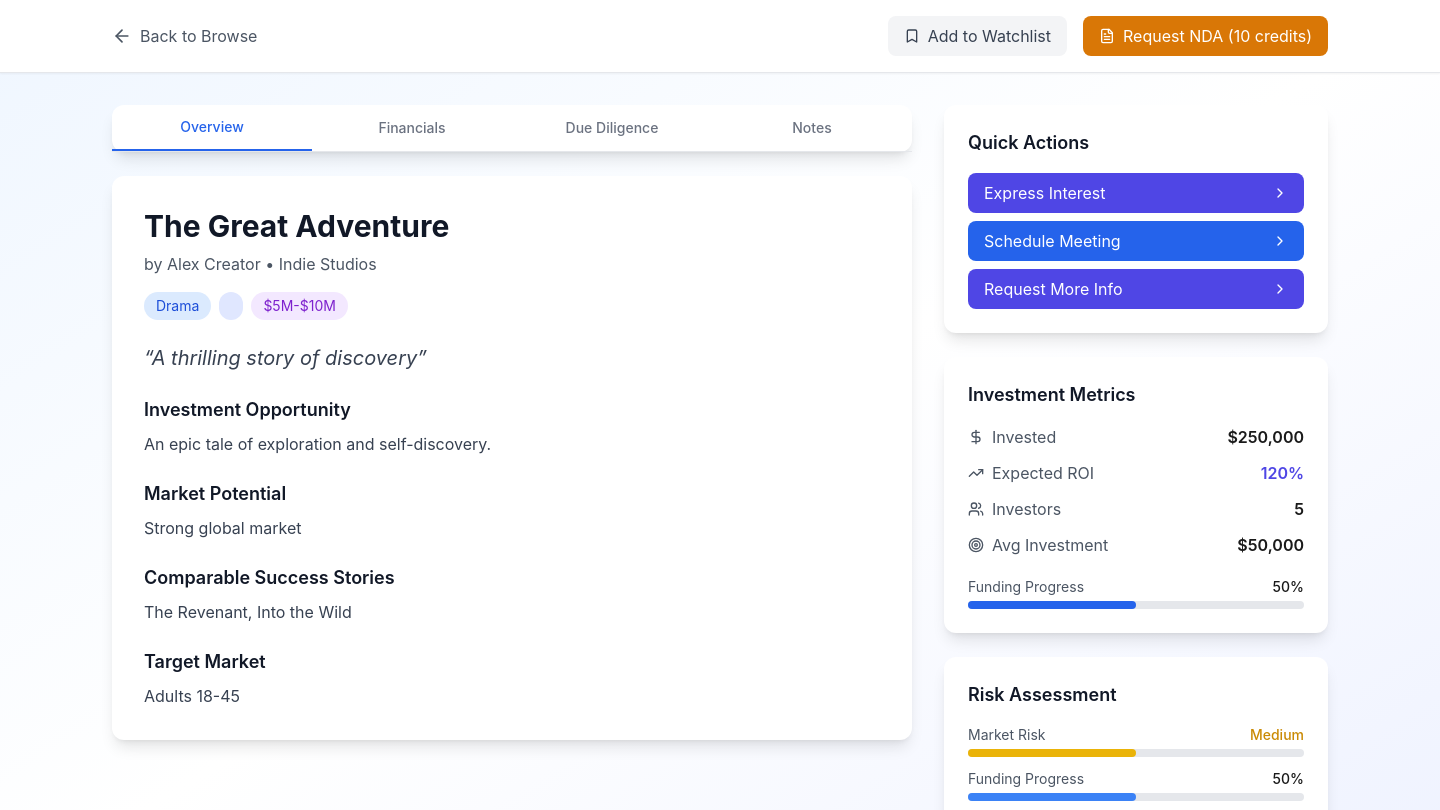
Test case: InvestorPitchView › Express Interest Modal › opens modal when Express Interest is clicked
Expected: the text "Express Interest" is shown, [984,181,1106,205]
Click the button "Express Interest": (1045, 193) [968,173,1304,213]
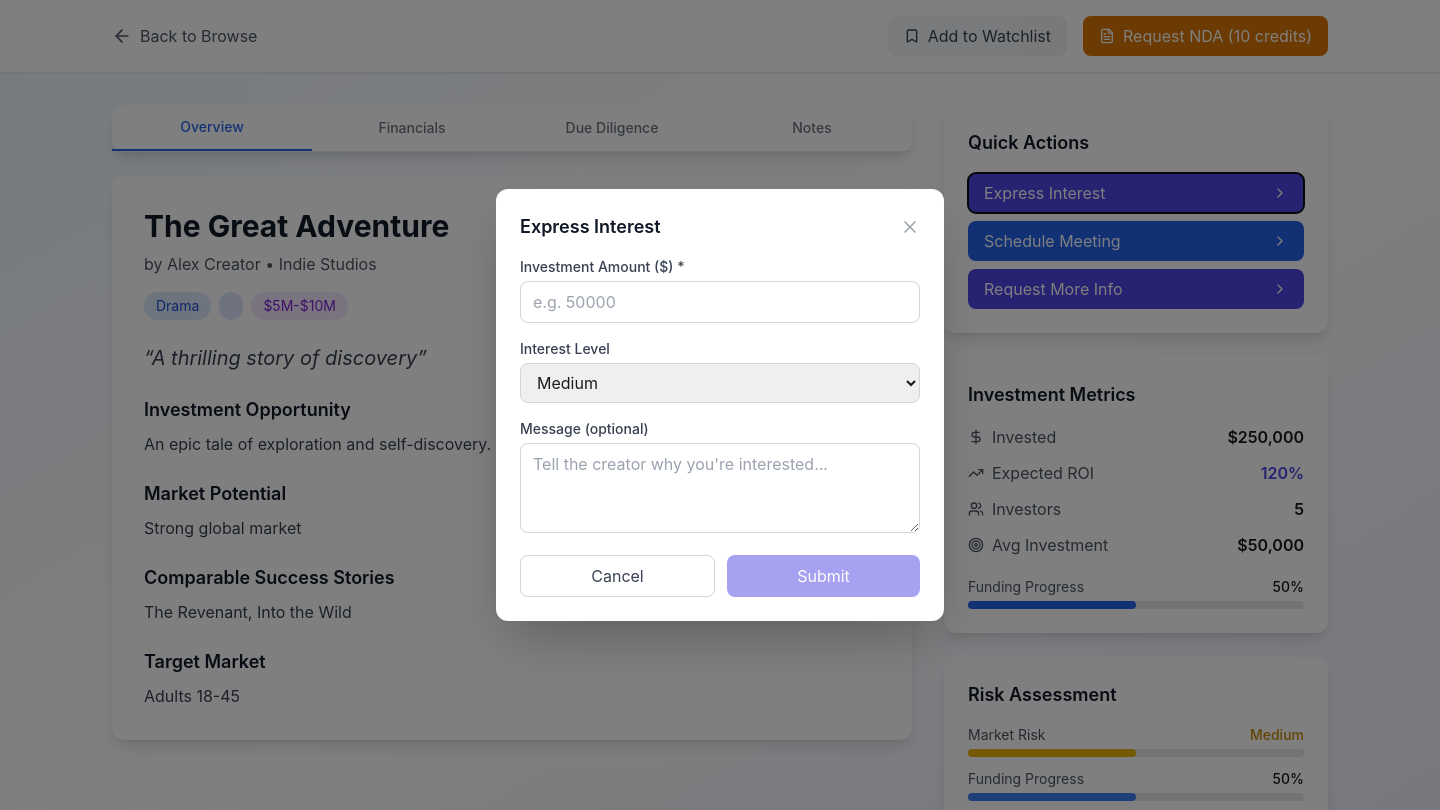
Result: the text "Investment Amount ($) *" is shown at [520,258,684,275]
